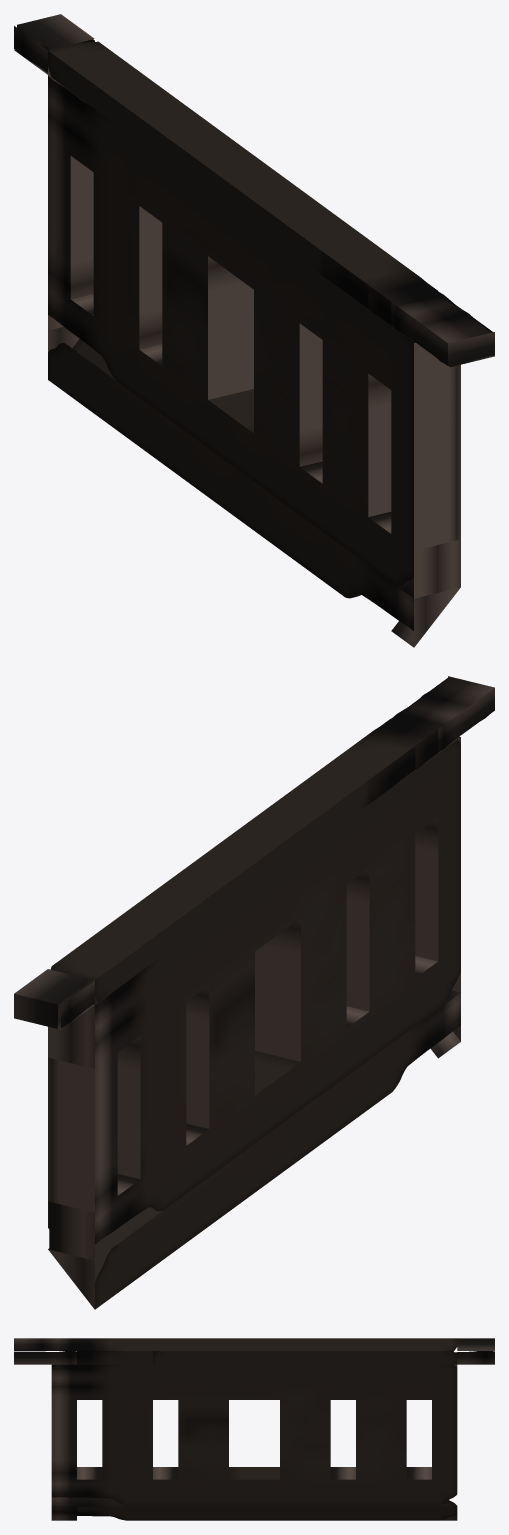
File: infuser_door.obj
3 renders of one model, top to bottom at view 1: azimuth 30°, elevation 25°; view 2: azimuth 150°, elevation 25°; view 3: azimuth 270°, elevation 25°, orthographic. The views are drawn at different scales.
Visible parts, largest first — view 1: infuser_door; view 2: infuser_door; view 3: infuser_door.
Part boxes in pixels (bbox=[...]): infuser_door: bbox=[14, 14, 494, 647]; infuser_door: bbox=[14, 676, 494, 1309]; infuser_door: bbox=[14, 1338, 494, 1520].
Bounding box in the file's own units: 0.1 × 0.67 × 1.6.
